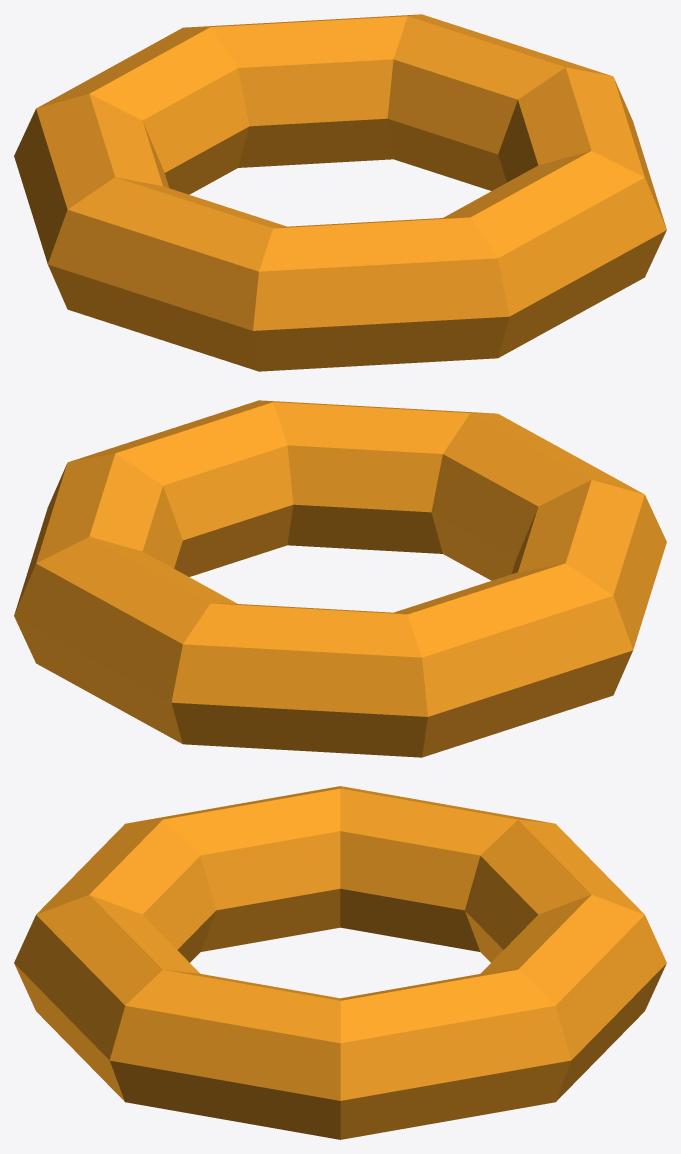
The picture shows the model from 3 angles, top to bottom: view 1: azimuth 30°, elevation 25°; view 2: azimuth 150°, elevation 25°; view 3: azimuth 270°, elevation 25°; orthographic projection. The views are drawn at different scales.
Parts seen in each view (by area): view 1: SM_Primitive_Torus_02; view 2: SM_Primitive_Torus_02; view 3: SM_Primitive_Torus_02.
Boxes of the visible parts, left/top/right/bottom form: SM_Primitive_Torus_02: left=14, top=14, right=666, bottom=371; SM_Primitive_Torus_02: left=14, top=400, right=666, bottom=757; SM_Primitive_Torus_02: left=14, top=786, right=666, bottom=1139.
Bounding box in the file's own units: 99.73 × 23.02 × 99.73.
